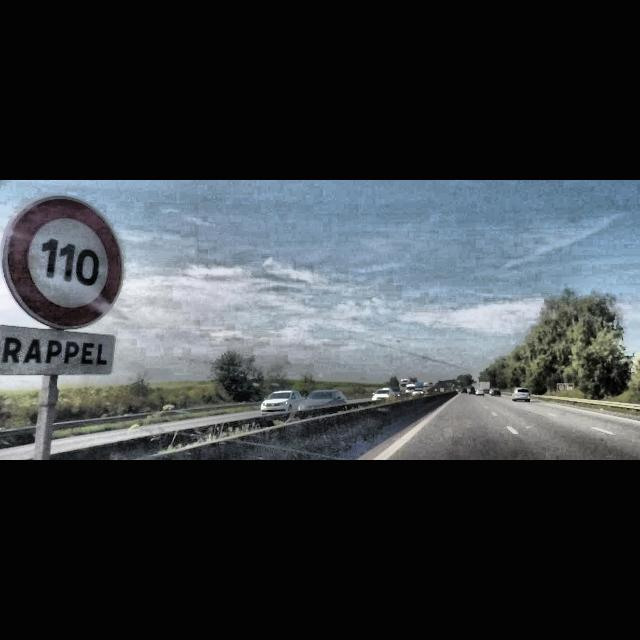speed_110: (6, 196, 122, 330)
